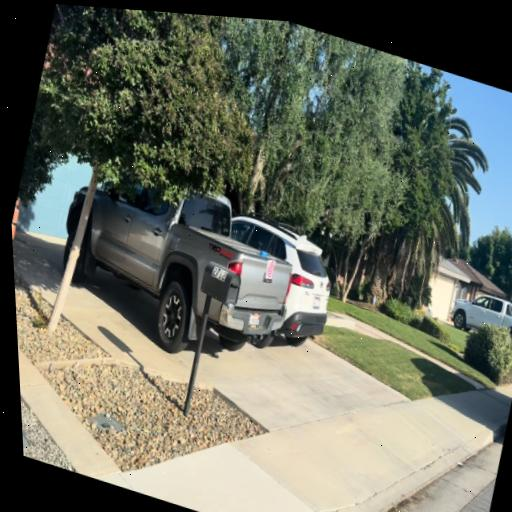bullseye: (266, 260, 276, 279)
